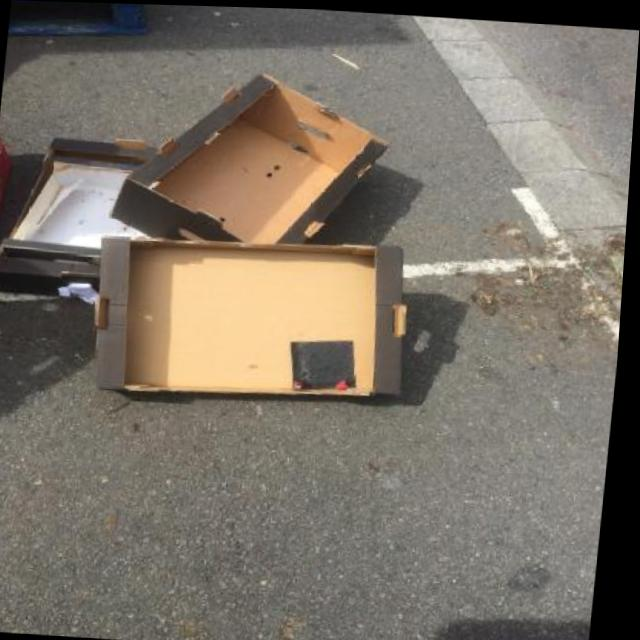cardboard: (79, 226, 420, 413), (107, 63, 399, 254), (0, 131, 170, 303)
